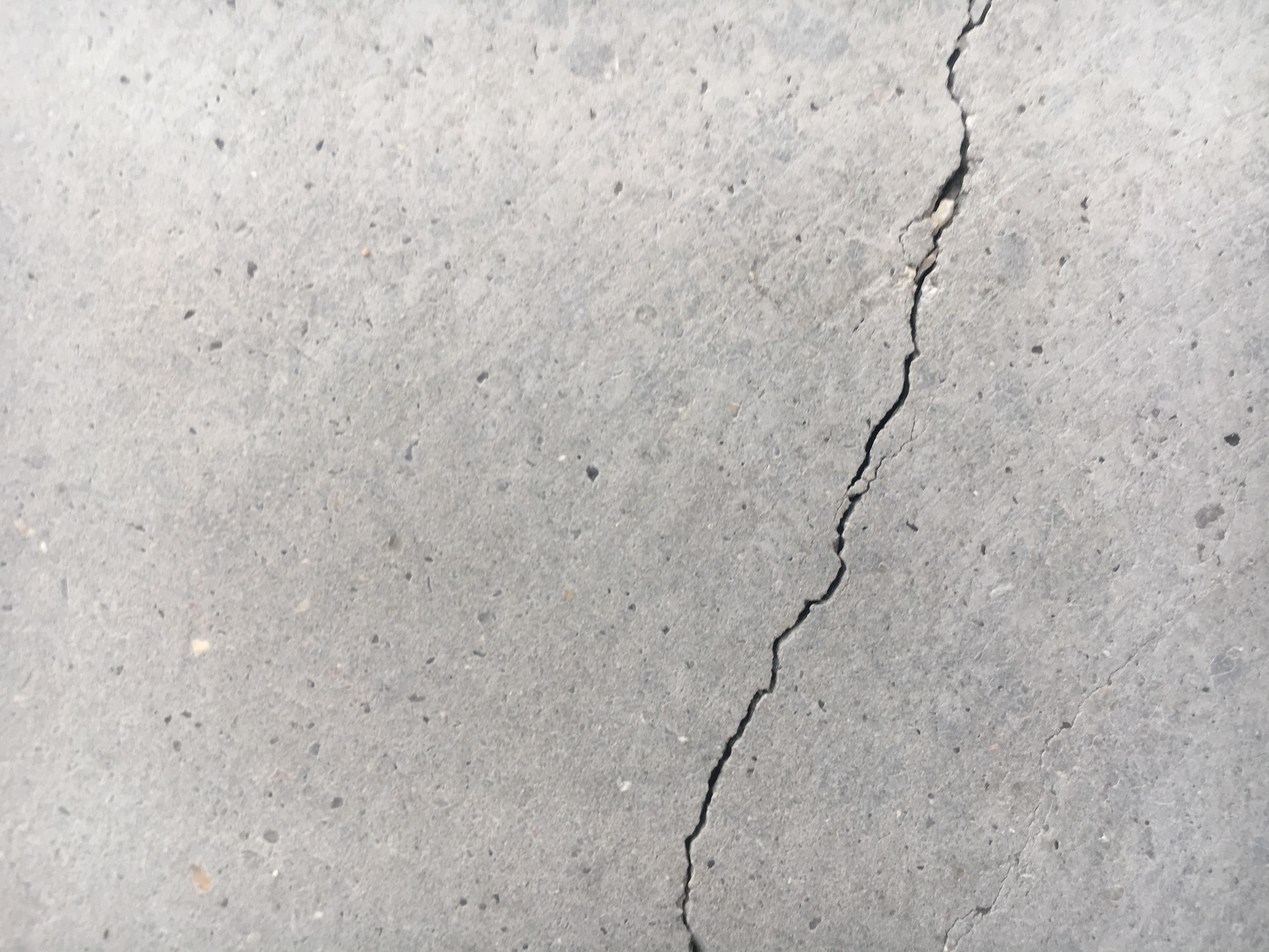Vertical Crack: (676, 1, 994, 947)
